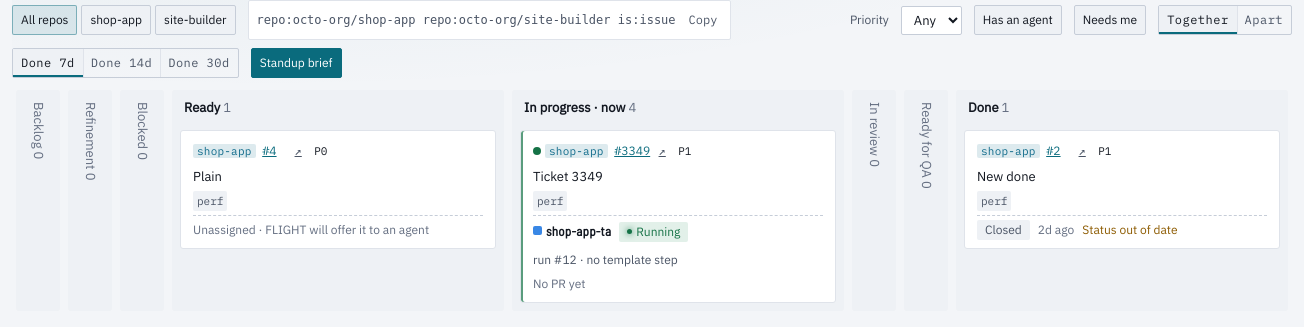
Test case: filters › Has an agent keeps only cards with a running run
The image size is (1304, 327).
Expected: the element showing "Backlog 0" is shown, [16,90,60,310]
Expected: the link "Plain" is shown, [193,168,222,185]
Click the button "Has an agent". click: click(1018, 20)
box: [974,5,1062,35]
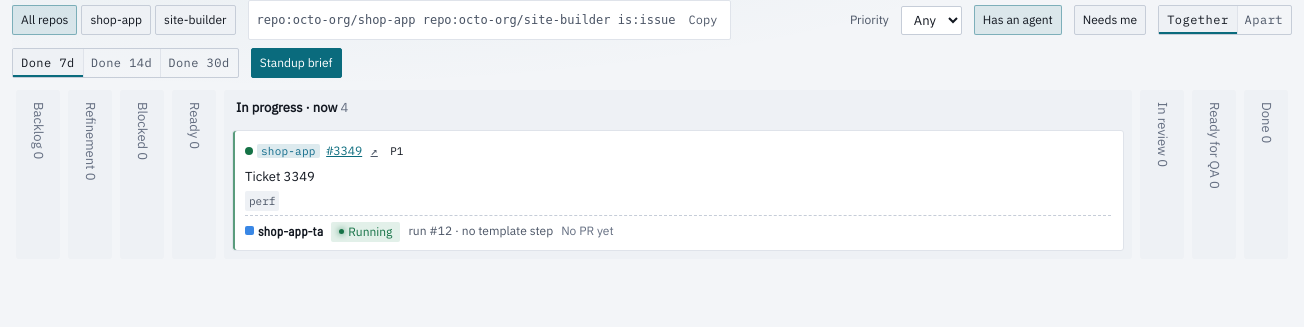
Expected: the link "Ticket 3349" is shown, [245,168,315,185]
Now the link "Plain" is gone
